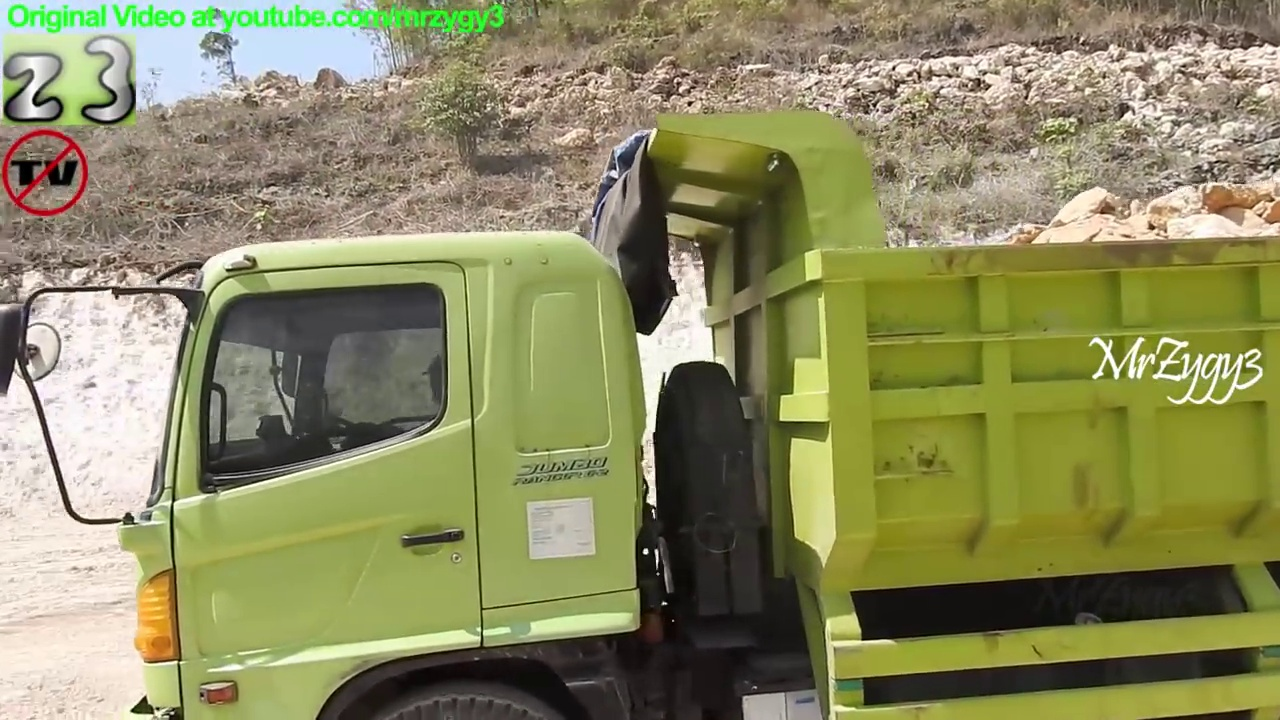truck: (1, 100, 1280, 720)
